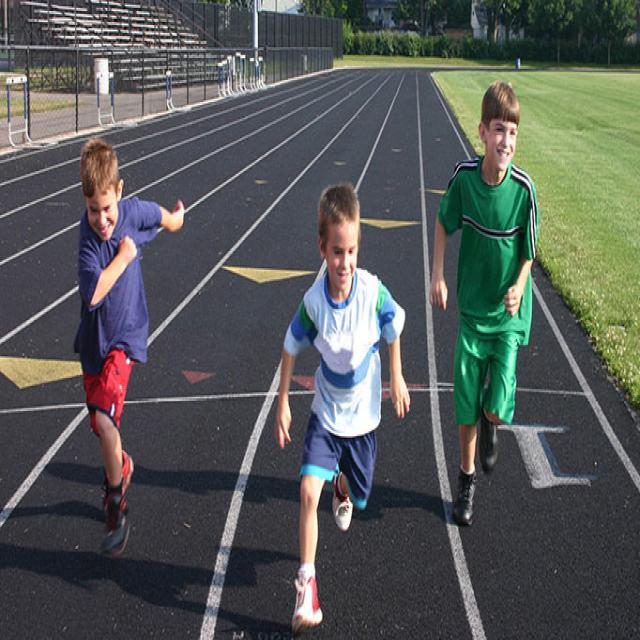Person: (276, 182, 412, 631), (429, 83, 540, 526), (76, 138, 185, 558)
